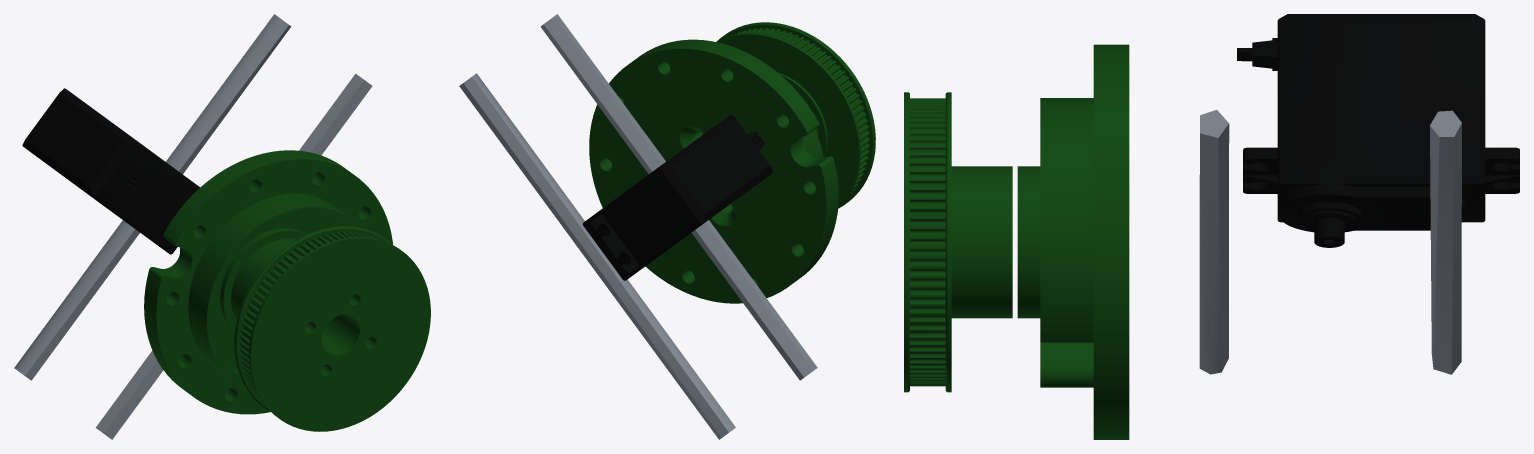
The model's file is wrist_link.obj.
3 views of the same model, side by side, from view 1: azimuth 30°, elevation 25°; view 2: azimuth 150°, elevation 25°; view 3: azimuth 270°, elevation 25° (orthographic). The views are drawn at different scales.
Visible parts, largest first — view 1: wrist_link_printed, wrist_link_motor, wrist_link_metal; view 2: wrist_link_printed, wrist_link_metal, wrist_link_motor; view 3: wrist_link_printed, wrist_link_motor, wrist_link_metal.
Part boxes in pixels (box(x1,y1,x2,y2)): wrist_link_printed: box(144, 150, 430, 431); wrist_link_motor: box(22, 88, 199, 254); wrist_link_metal: box(14, 14, 372, 439); wrist_link_printed: box(589, 22, 875, 303); wrist_link_metal: box(459, 14, 817, 439); wrist_link_motor: box(582, 114, 773, 280); wrist_link_printed: box(904, 44, 1129, 439); wrist_link_motor: box(1237, 14, 1519, 247); wrist_link_metal: box(1199, 109, 1461, 374).
Bounding box in the file's own units: 0.0898 × 0.0955 × 0.1215.
